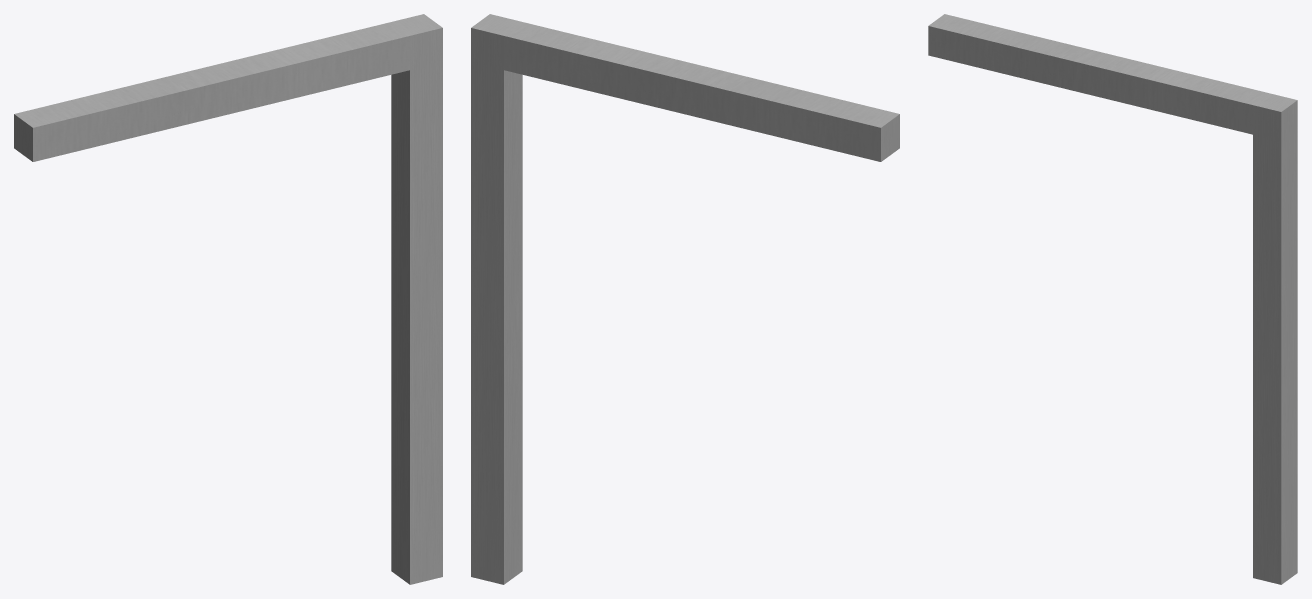
File: pids_pole.obj
3 views of the same model, side by side, from view 1: azimuth 30°, elevation 25°; view 2: azimuth 150°, elevation 25°; view 3: azimuth 330°, elevation 25° (orthographic). The views are drawn at different scales.
Parts seen in each view (by area): view 1: cube; view 2: cube; view 3: cube.
Boxes of the visible parts, x1=… form: cube: x1=14, y1=14, x2=442, y2=584; cube: x1=471, y1=14, x2=899, y2=584; cube: x1=928, y1=14, x2=1297, y2=584.
Size of the model in its own units: 3.12 by 4 by 0.25.
1 material, 1 textured.
